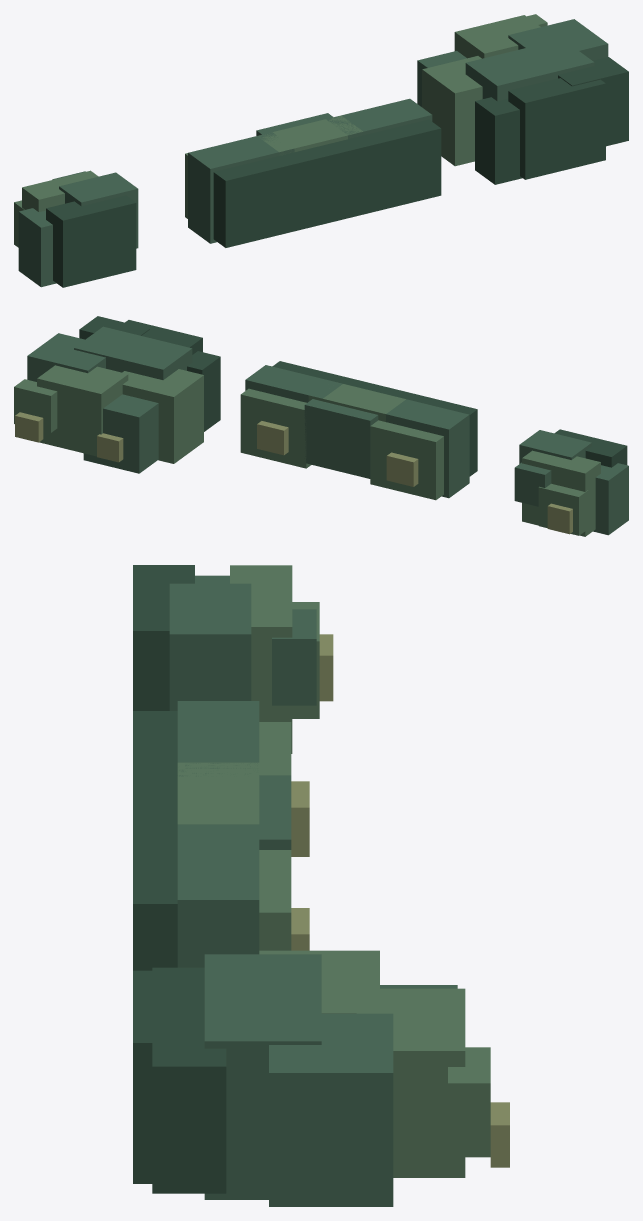
The model's file is gotham_bushes.glb.
3 views of the same model, one above another, from view 1: azimuth 30°, elevation 25°; view 2: azimuth 150°, elevation 25°; view 3: azimuth 270°, elevation 25° (orthographic). The views are drawn at different scales.
Parts seen in each view (by area): view 1: Gotham_Bush_Tall, Gotham_Bush_Hedge, Gotham_Bush_Compact; view 2: Gotham_Bush_Tall, Gotham_Bush_Hedge, Gotham_Bush_Compact; view 3: Gotham_Bush_Tall, Gotham_Bush_Hedge, Gotham_Bush_Compact.
Part boxes in pixels (bbox=[...]): Gotham_Bush_Tall: bbox=[417, 14, 628, 184]; Gotham_Bush_Hedge: bbox=[185, 98, 441, 247]; Gotham_Bush_Compact: bbox=[14, 170, 138, 287]; Gotham_Bush_Tall: bbox=[14, 316, 220, 473]; Gotham_Bush_Hedge: bbox=[240, 361, 477, 500]; Gotham_Bush_Compact: bbox=[514, 429, 628, 536]; Gotham_Bush_Tall: bbox=[133, 950, 509, 1206]; Gotham_Bush_Hedge: bbox=[133, 701, 309, 970]; Gotham_Bush_Compact: bbox=[133, 565, 333, 753].
Bounding box in the file's own units: 6.48 × 0.9 × 1.94.
